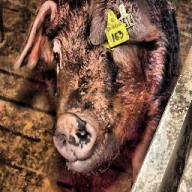boar: (14, 0, 180, 181)
